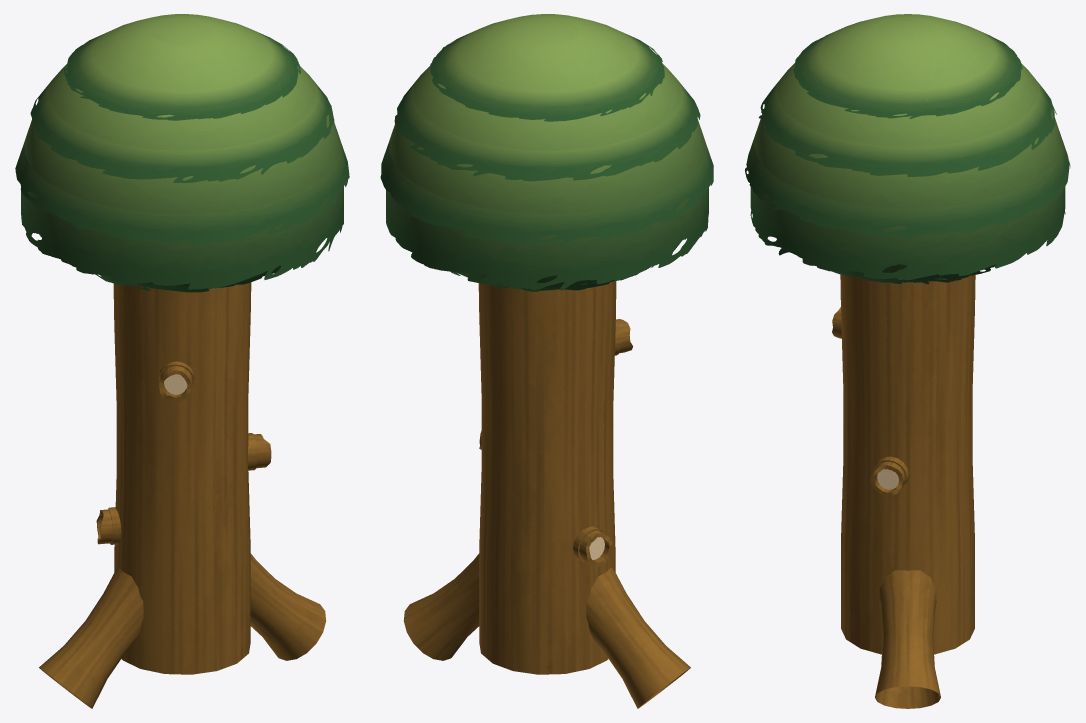
Rendered from big_tree.fbx.
3 renders of one model, left to right at view 1: azimuth 30°, elevation 25°; view 2: azimuth 150°, elevation 25°; view 3: azimuth 270°, elevation 25°, orthographic. The views are drawn at different scales.
Visible parts, largest first — view 1: Cylinder, big_foliage_variant, Cylinder.001, Sphere.002, Sphere.007, Sphere.008, Circle, Circle.002, bot_foliage_variant, Circle.001; view 2: Cylinder, big_foliage_variant, Cylinder.001, Sphere.002, Sphere.007, Sphere.008, Circle.002, bot_foliage_variant; view 3: Cylinder, big_foliage_variant, Sphere.007, Sphere.002, Sphere.008, Cylinder.001, Circle.001, bot_foliage_variant.
Boxes of the visible parts, box(x1,y1,x2,y2) form: Cylinder: box(113, 282, 251, 674); big_foliage_variant: box(21, 14, 343, 289); Cylinder.001: box(39, 553, 326, 708); Sphere.002: box(15, 138, 349, 244); Sphere.007: box(30, 77, 334, 182); Sphere.008: box(64, 29, 300, 120); Circle: box(158, 361, 194, 401); Circle.002: box(96, 507, 121, 544); bot_foliage_variant: box(92, 265, 281, 292); Circle.001: box(248, 433, 271, 470); Cylinder: box(478, 281, 616, 674); big_foliage_variant: box(386, 14, 708, 290); Cylinder.001: box(403, 553, 690, 708); Sphere.002: box(380, 138, 713, 245); Sphere.007: box(394, 77, 700, 181); Sphere.008: box(430, 29, 664, 121); Circle.002: box(573, 526, 612, 566); bot_foliage_variant: box(450, 241, 681, 291); Cylinder: box(840, 274, 975, 654); big_foliage_variant: box(750, 14, 1065, 280); Sphere.007: box(759, 74, 1056, 176); Sphere.002: box(745, 132, 1070, 237); Sphere.008: box(793, 27, 1022, 118); Cylinder.001: box(875, 570, 940, 708); Circle.001: box(870, 456, 908, 496); bot_foliage_variant: box(825, 264, 995, 284).
Bounding box in the file's own units: 1956 × 4182 × 1956.
